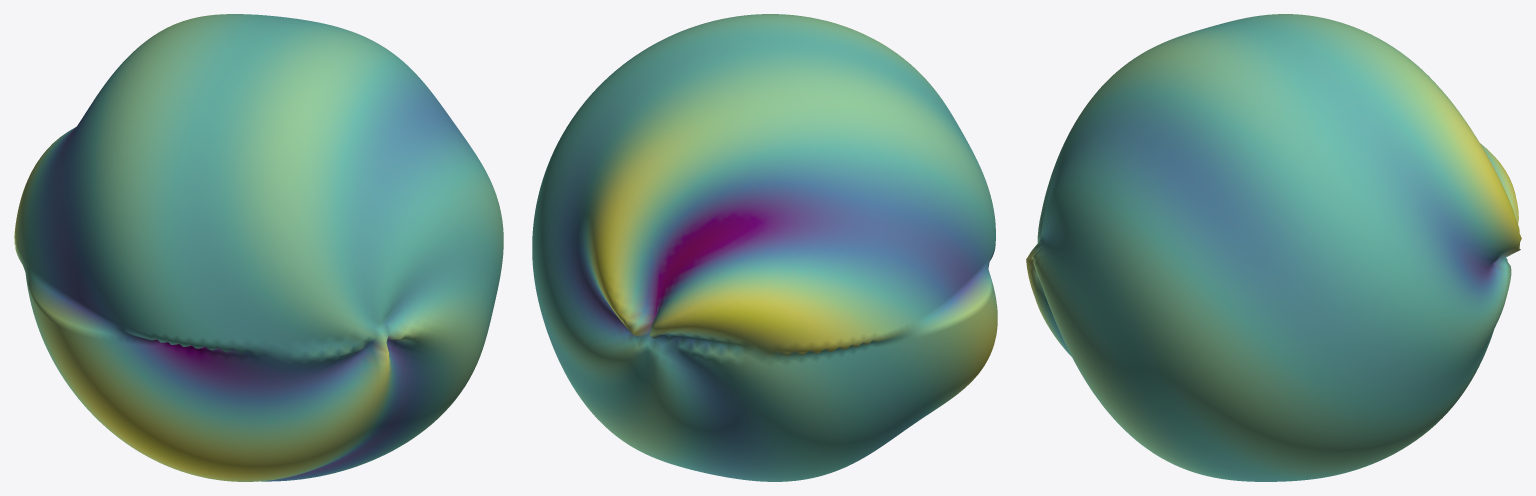
The model's file is sphere_frame_0029.glb.
3 renders of one model, left to right at view 1: azimuth 30°, elevation 25°; view 2: azimuth 150°, elevation 25°; view 3: azimuth 270°, elevation 25°, orthographic.
Visible parts, largest first — view 1: world; view 2: world; view 3: world.
Boxes of the visible parts, x1,y1,x2,y2 form: world: (14,14,503,481); world: (532,14,997,481); world: (1026,14,1521,481).
Bounding box in the file's own units: 2.2 × 2.15 × 2.29.
